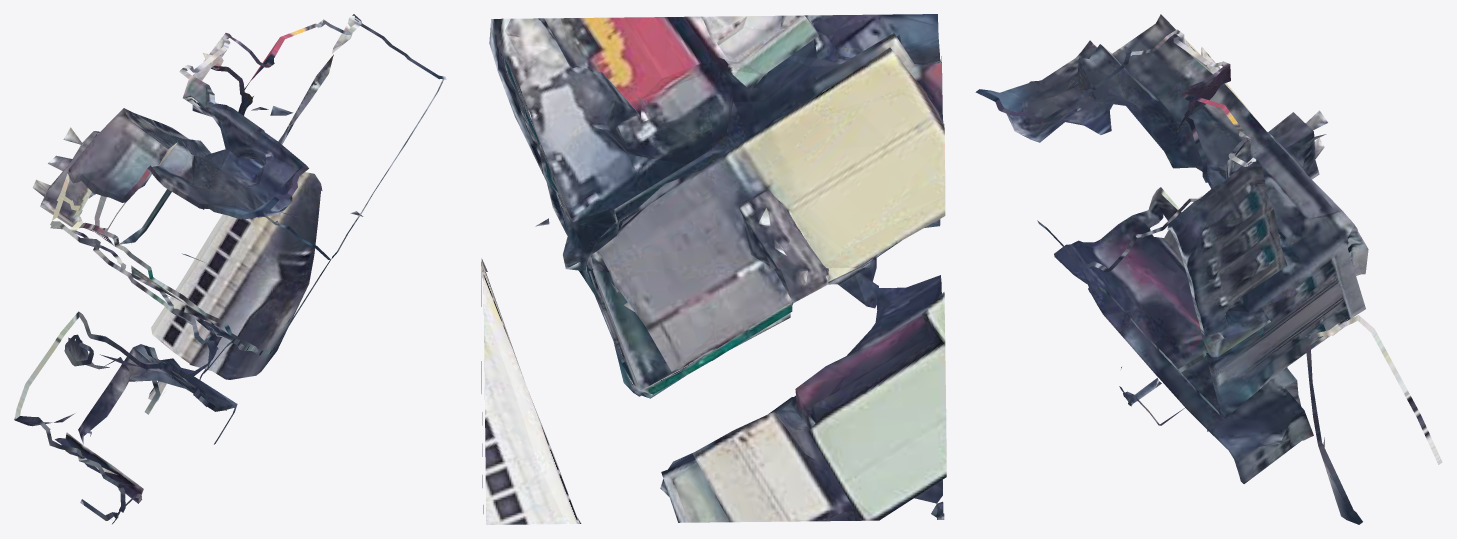
The picture shows the model from 3 angles, left to right: view 1: azimuth 30°, elevation 25°; view 2: azimuth 150°, elevation 25°; view 3: azimuth 270°, elevation 25°; orthographic projection. The views are drawn at different scales.
Size of the model in its own units: 42.26 by 41.4 by 41.52.
Materials: 1 (1 with a texture image).
